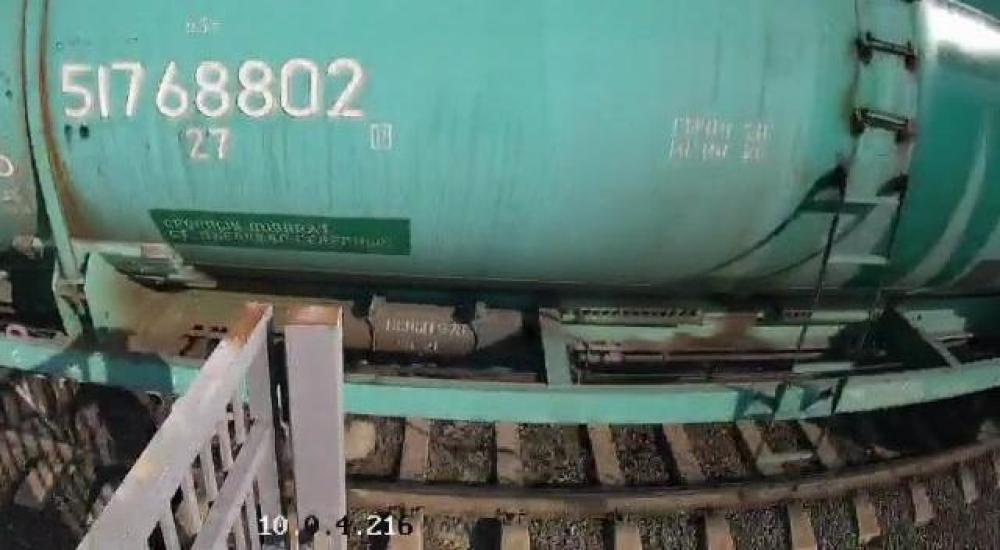Wagon-number: (53, 51, 370, 126)
